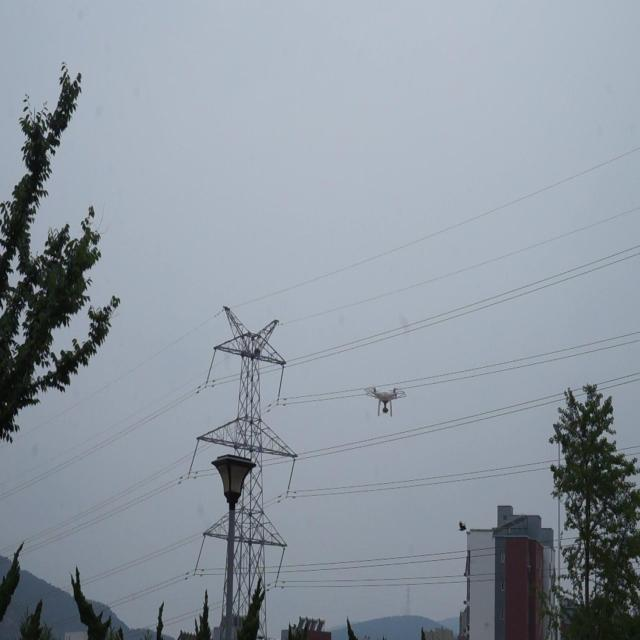drone: (365, 384, 407, 427)
